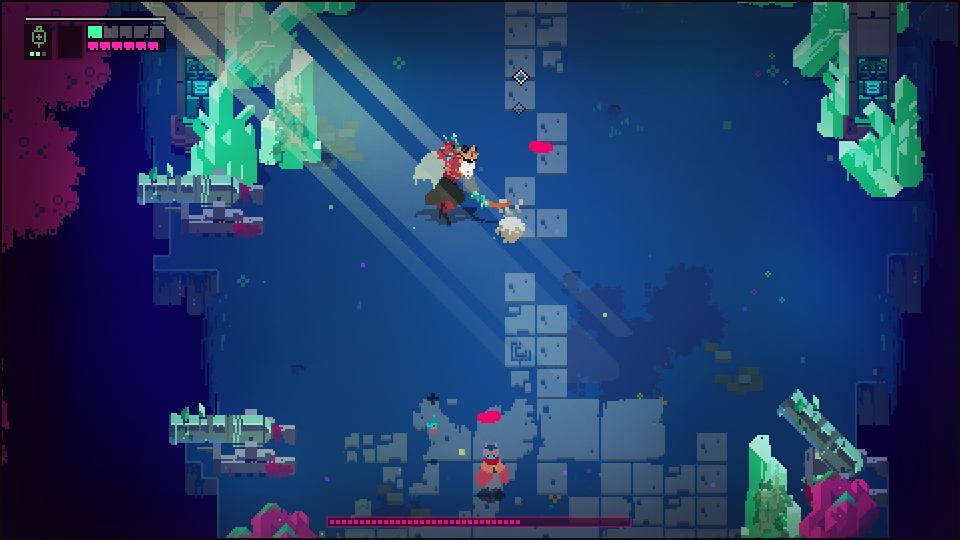hanged_man: (412, 132, 509, 231)
player: (475, 441, 511, 494)
